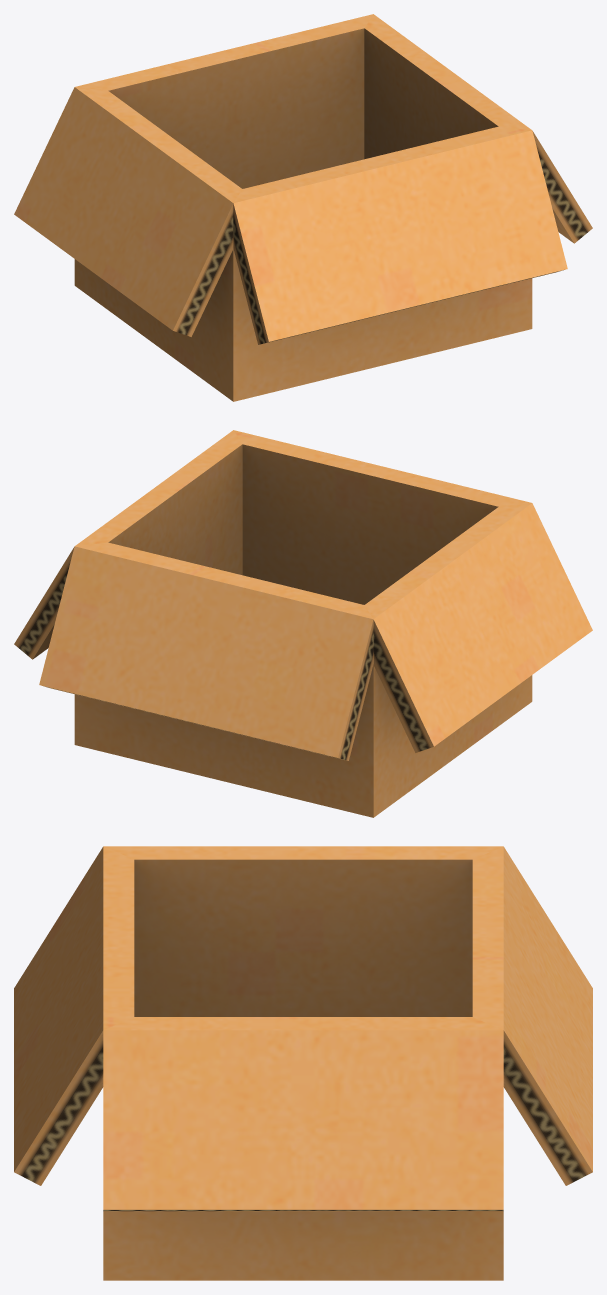
Rendered from stylized_cartoon_corrugated_cardboard_box.glb.
The picture shows the model from 3 angles, top to bottom: view 1: azimuth 30°, elevation 25°; view 2: azimuth 150°, elevation 25°; view 3: azimuth 270°, elevation 25°; orthographic projection. The views are drawn at different scales.
Parts seen in each view (by area): view 1: PaperBox; view 2: PaperBox; view 3: PaperBox.
Part boxes in pixels (box(x1,y1,x2,y2)): PaperBox: box(14, 14, 592, 401); PaperBox: box(14, 430, 592, 817); PaperBox: box(14, 846, 592, 1280).
Size of the model in its own units: 3.54 by 1.6 by 3.35.
Materials: 1 (1 with a texture image).
